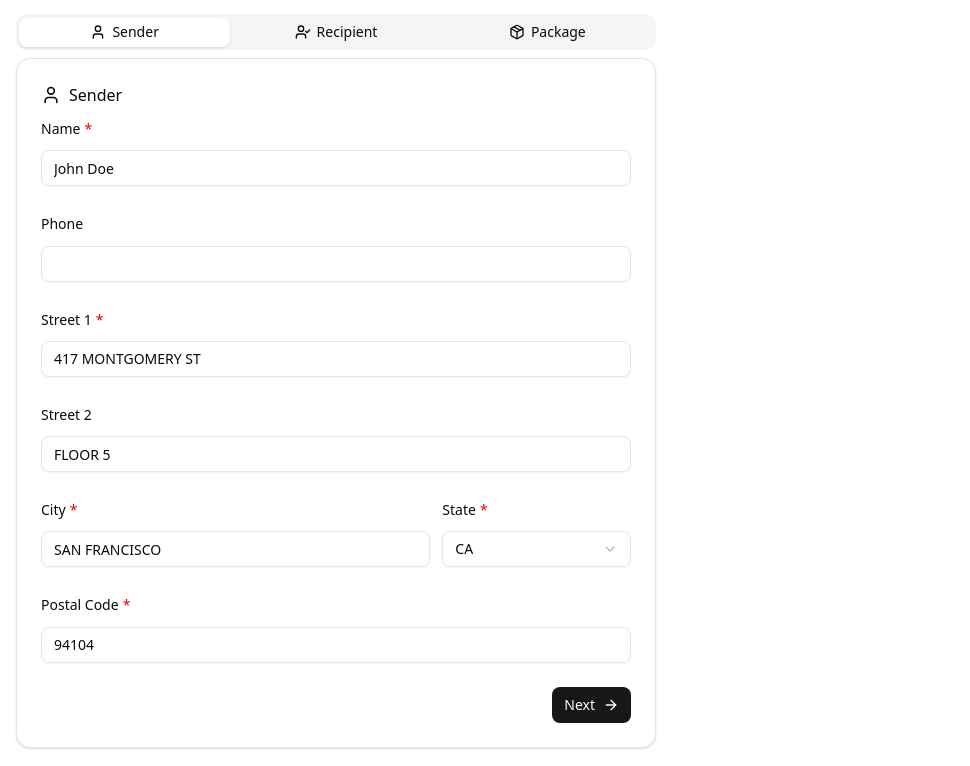
Home form flow › does not open new tab if we got an error and shows a toast
Click the button "Next" at (592, 704), box [552,686,631,722]
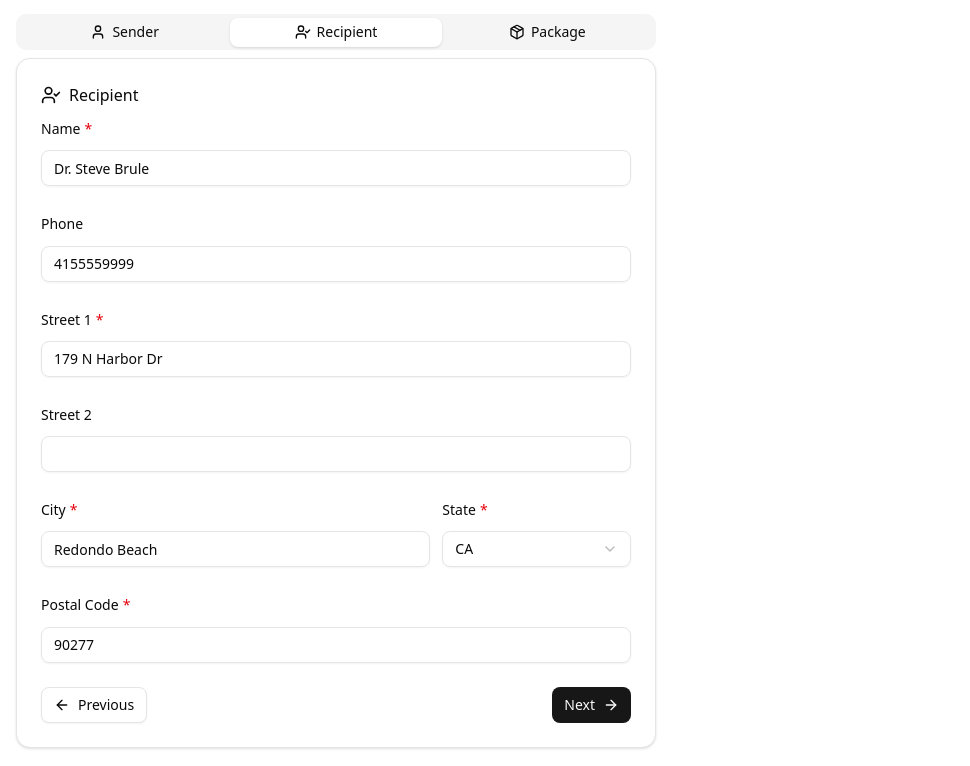
Click the button "Next" at (592, 704), box [552,686,631,722]
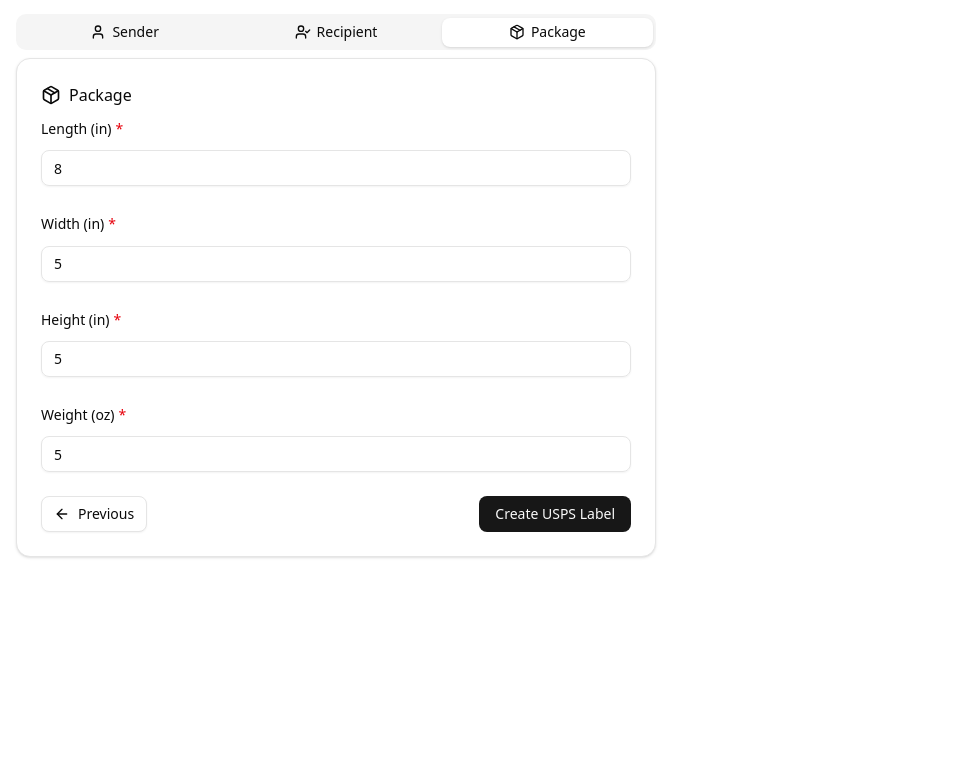
Click the button "Create USPS Label" at (555, 514), box [479,496,631,532]
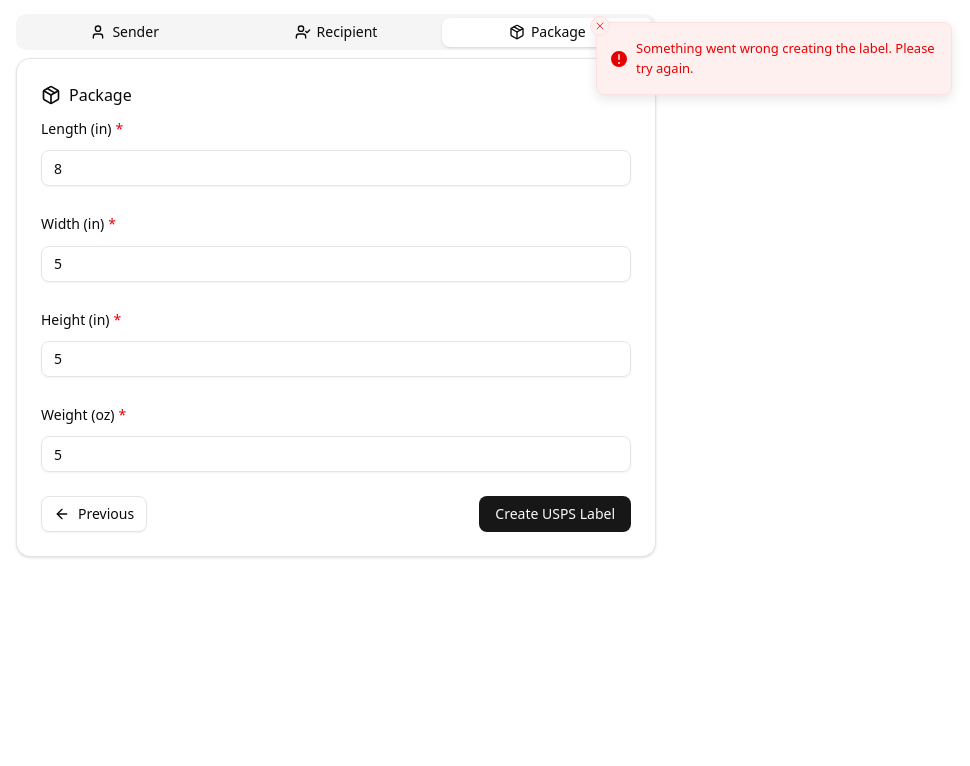
Expected: the text "Something went wrong creating the label. Please try again." is shown, [636,39,935,78]
